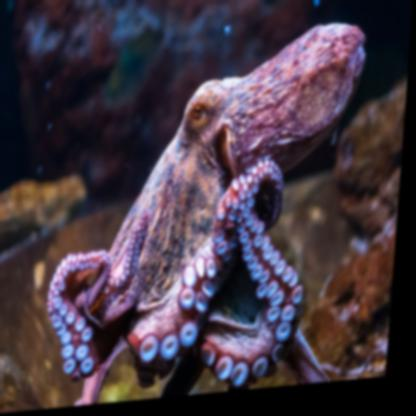Squid: (44, 23, 377, 411)
